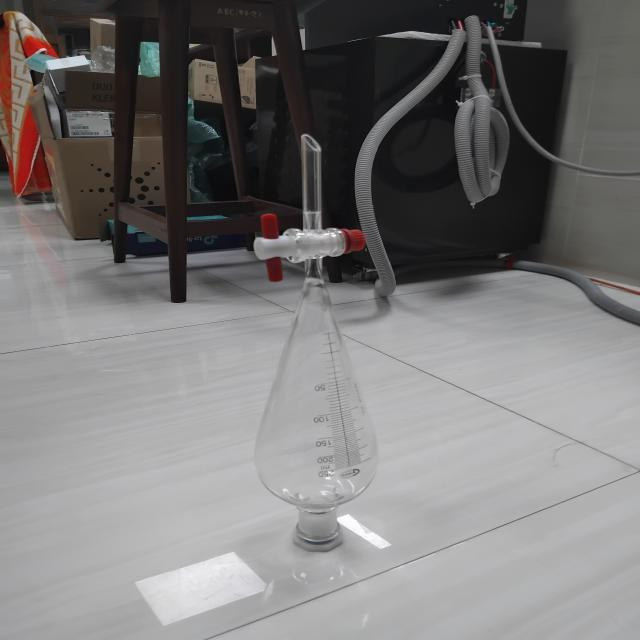Separating_Funnel: (217, 106, 434, 575)
